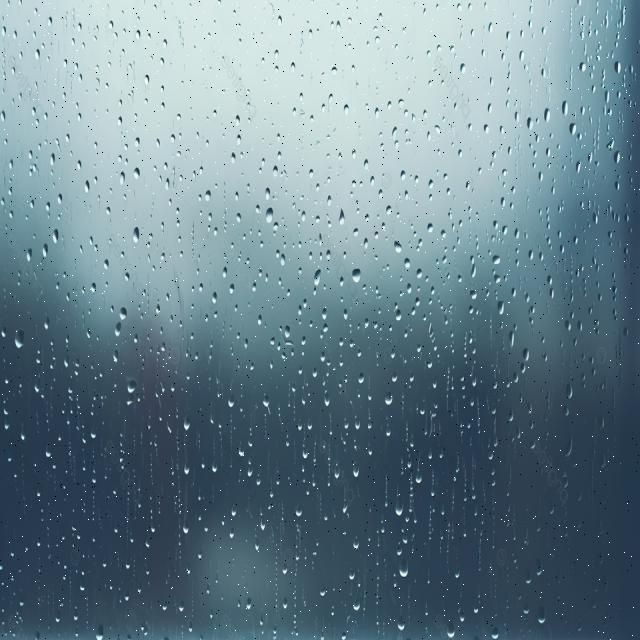raindrop: (394, 546, 411, 581), (560, 428, 575, 466), (393, 492, 406, 530), (12, 326, 29, 354), (534, 600, 548, 632), (572, 152, 585, 184), (349, 264, 363, 292), (381, 386, 395, 414), (77, 177, 94, 200), (336, 204, 348, 234), (344, 563, 359, 587), (466, 262, 481, 286), (443, 616, 458, 640), (86, 274, 102, 296), (178, 509, 191, 536), (565, 119, 579, 144), (348, 596, 365, 616), (521, 109, 535, 133), (576, 54, 590, 78), (560, 311, 574, 335), (394, 608, 406, 636), (50, 225, 62, 253), (216, 260, 231, 282), (487, 617, 501, 640), (349, 460, 363, 483), (399, 324, 414, 345), (182, 454, 194, 480), (559, 92, 570, 120), (610, 56, 624, 78), (81, 321, 98, 339), (388, 308, 404, 327), (488, 252, 503, 272), (130, 162, 143, 185), (130, 222, 141, 249), (130, 133, 144, 154), (117, 300, 129, 324), (110, 345, 122, 369), (112, 315, 124, 339), (180, 410, 192, 434), (121, 262, 132, 288), (310, 266, 320, 294), (391, 238, 405, 258), (414, 460, 424, 488), (294, 501, 306, 524), (541, 100, 551, 127), (506, 327, 516, 354), (124, 378, 139, 396), (317, 302, 328, 326), (521, 342, 532, 366), (508, 368, 520, 390), (612, 140, 622, 166), (466, 284, 479, 304), (165, 131, 178, 151), (425, 217, 436, 240), (382, 418, 394, 439), (354, 368, 366, 389), (361, 233, 372, 255), (563, 380, 574, 402), (319, 348, 330, 370), (350, 534, 360, 558), (478, 120, 490, 140), (494, 298, 506, 318), (320, 392, 332, 412), (26, 240, 36, 264), (100, 254, 112, 274), (29, 99, 39, 123), (484, 99, 494, 122), (263, 204, 273, 227), (283, 320, 293, 343), (426, 174, 436, 196), (115, 166, 126, 186), (228, 148, 239, 168), (260, 392, 270, 414), (376, 183, 386, 204), (297, 332, 308, 351), (534, 245, 543, 268), (341, 99, 350, 122), (40, 240, 50, 260), (32, 44, 42, 64), (400, 256, 411, 274), (437, 225, 448, 243), (232, 208, 243, 226), (141, 72, 152, 90), (504, 28, 516, 44), (396, 168, 408, 184), (200, 188, 212, 204), (43, 444, 54, 461), (416, 266, 425, 286), (362, 154, 371, 174), (389, 125, 399, 143), (538, 557, 544, 587), (384, 200, 393, 219), (308, 163, 316, 184), (402, 188, 411, 206), (404, 284, 414, 300), (486, 76, 496, 92), (159, 96, 167, 115), (518, 49, 528, 64), (164, 176, 172, 194), (160, 156, 168, 174), (48, 148, 54, 172), (158, 82, 167, 98), (198, 280, 205, 300), (0, 106, 7, 125), (210, 290, 218, 306), (61, 56, 70, 70), (458, 62, 468, 74), (434, 122, 442, 136)
